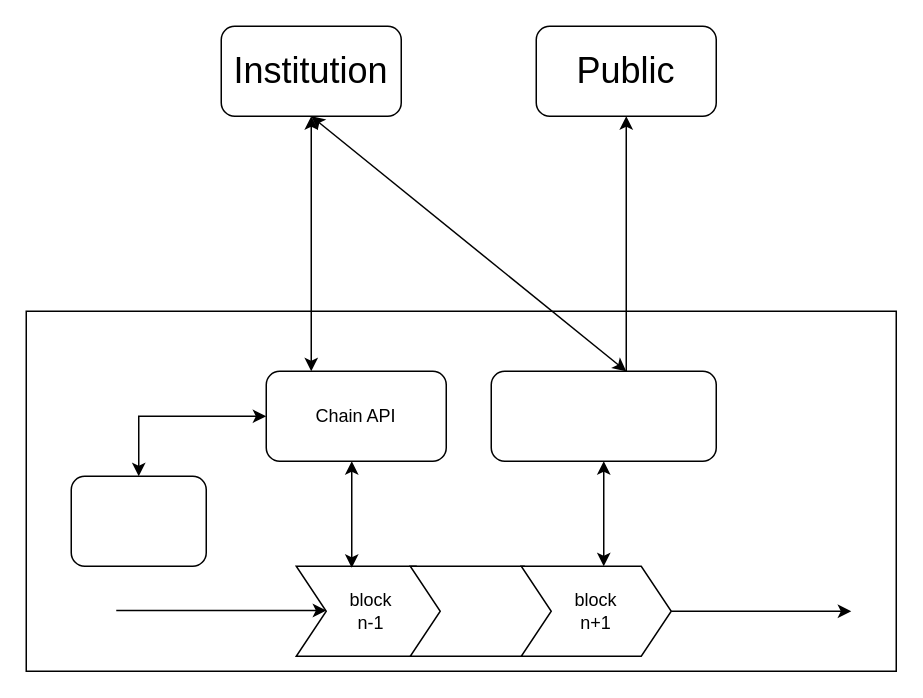
This 923x698 diagram has some shape labels left out. Each missing label, with the box of its shape:
block n: (409, 565, 554, 656)
Data Storage Signed Certificates: (70, 475, 206, 566)
Explorer/Validator API: (490, 370, 716, 461)
